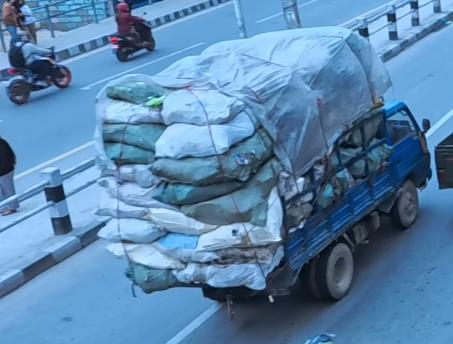bike: (2, 29, 73, 101)
mini_truck: (78, 21, 432, 310)
scooter: (102, 0, 166, 61)
